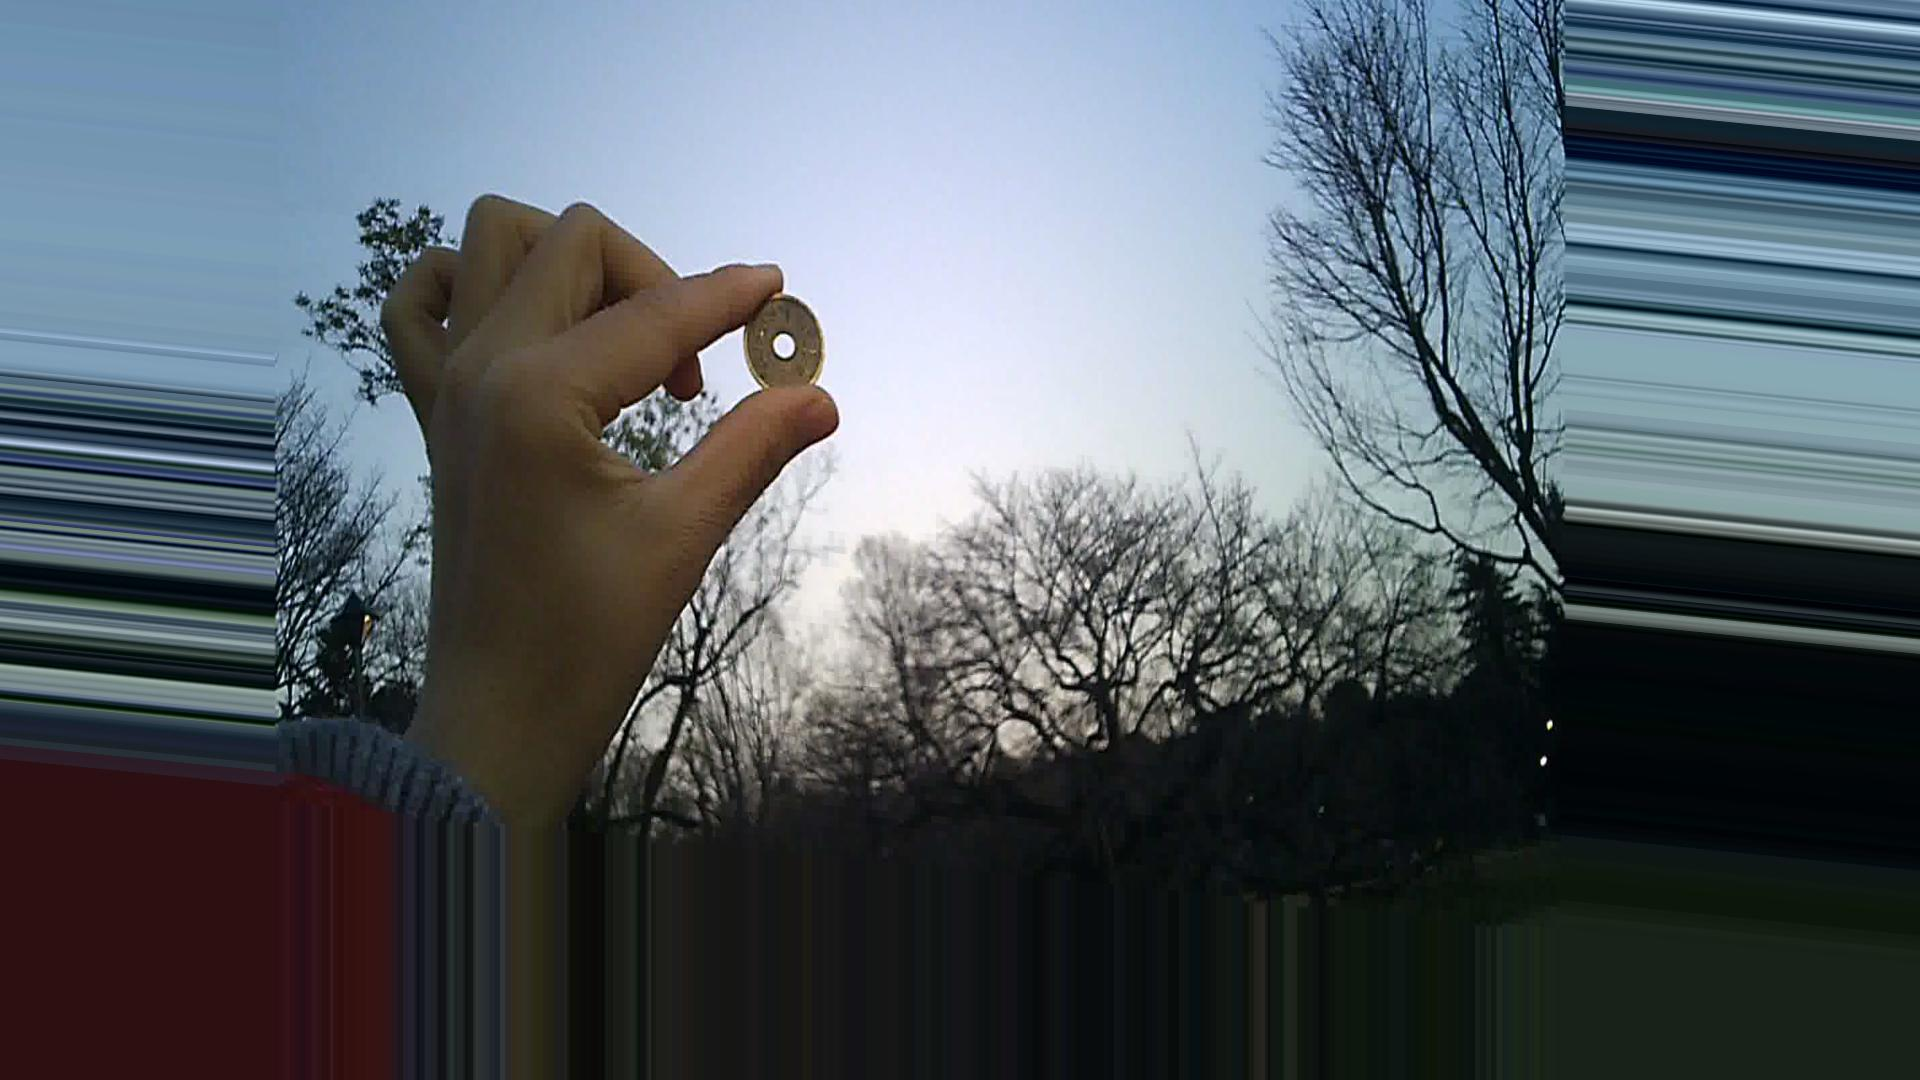5 Yen: (729, 284, 829, 400)
